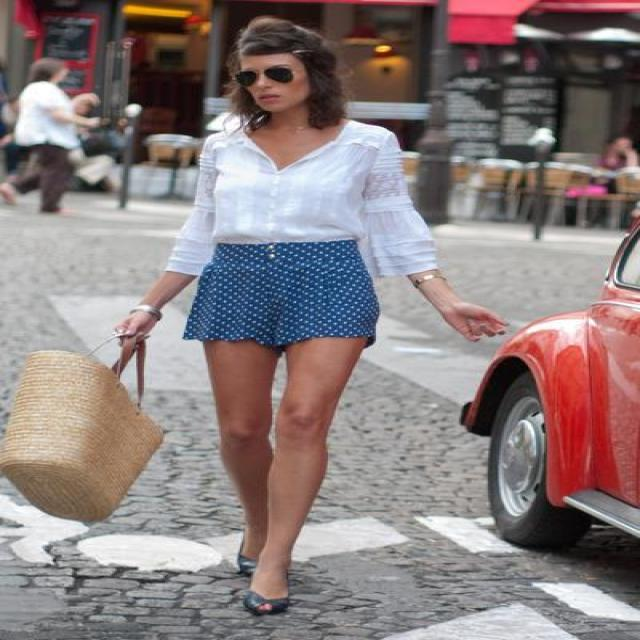bag: (0, 350, 168, 524)
shirt: (150, 120, 440, 280)
shoe: (250, 598, 304, 616)
shorts: (182, 239, 378, 600)
sunglass: (235, 66, 291, 105)
